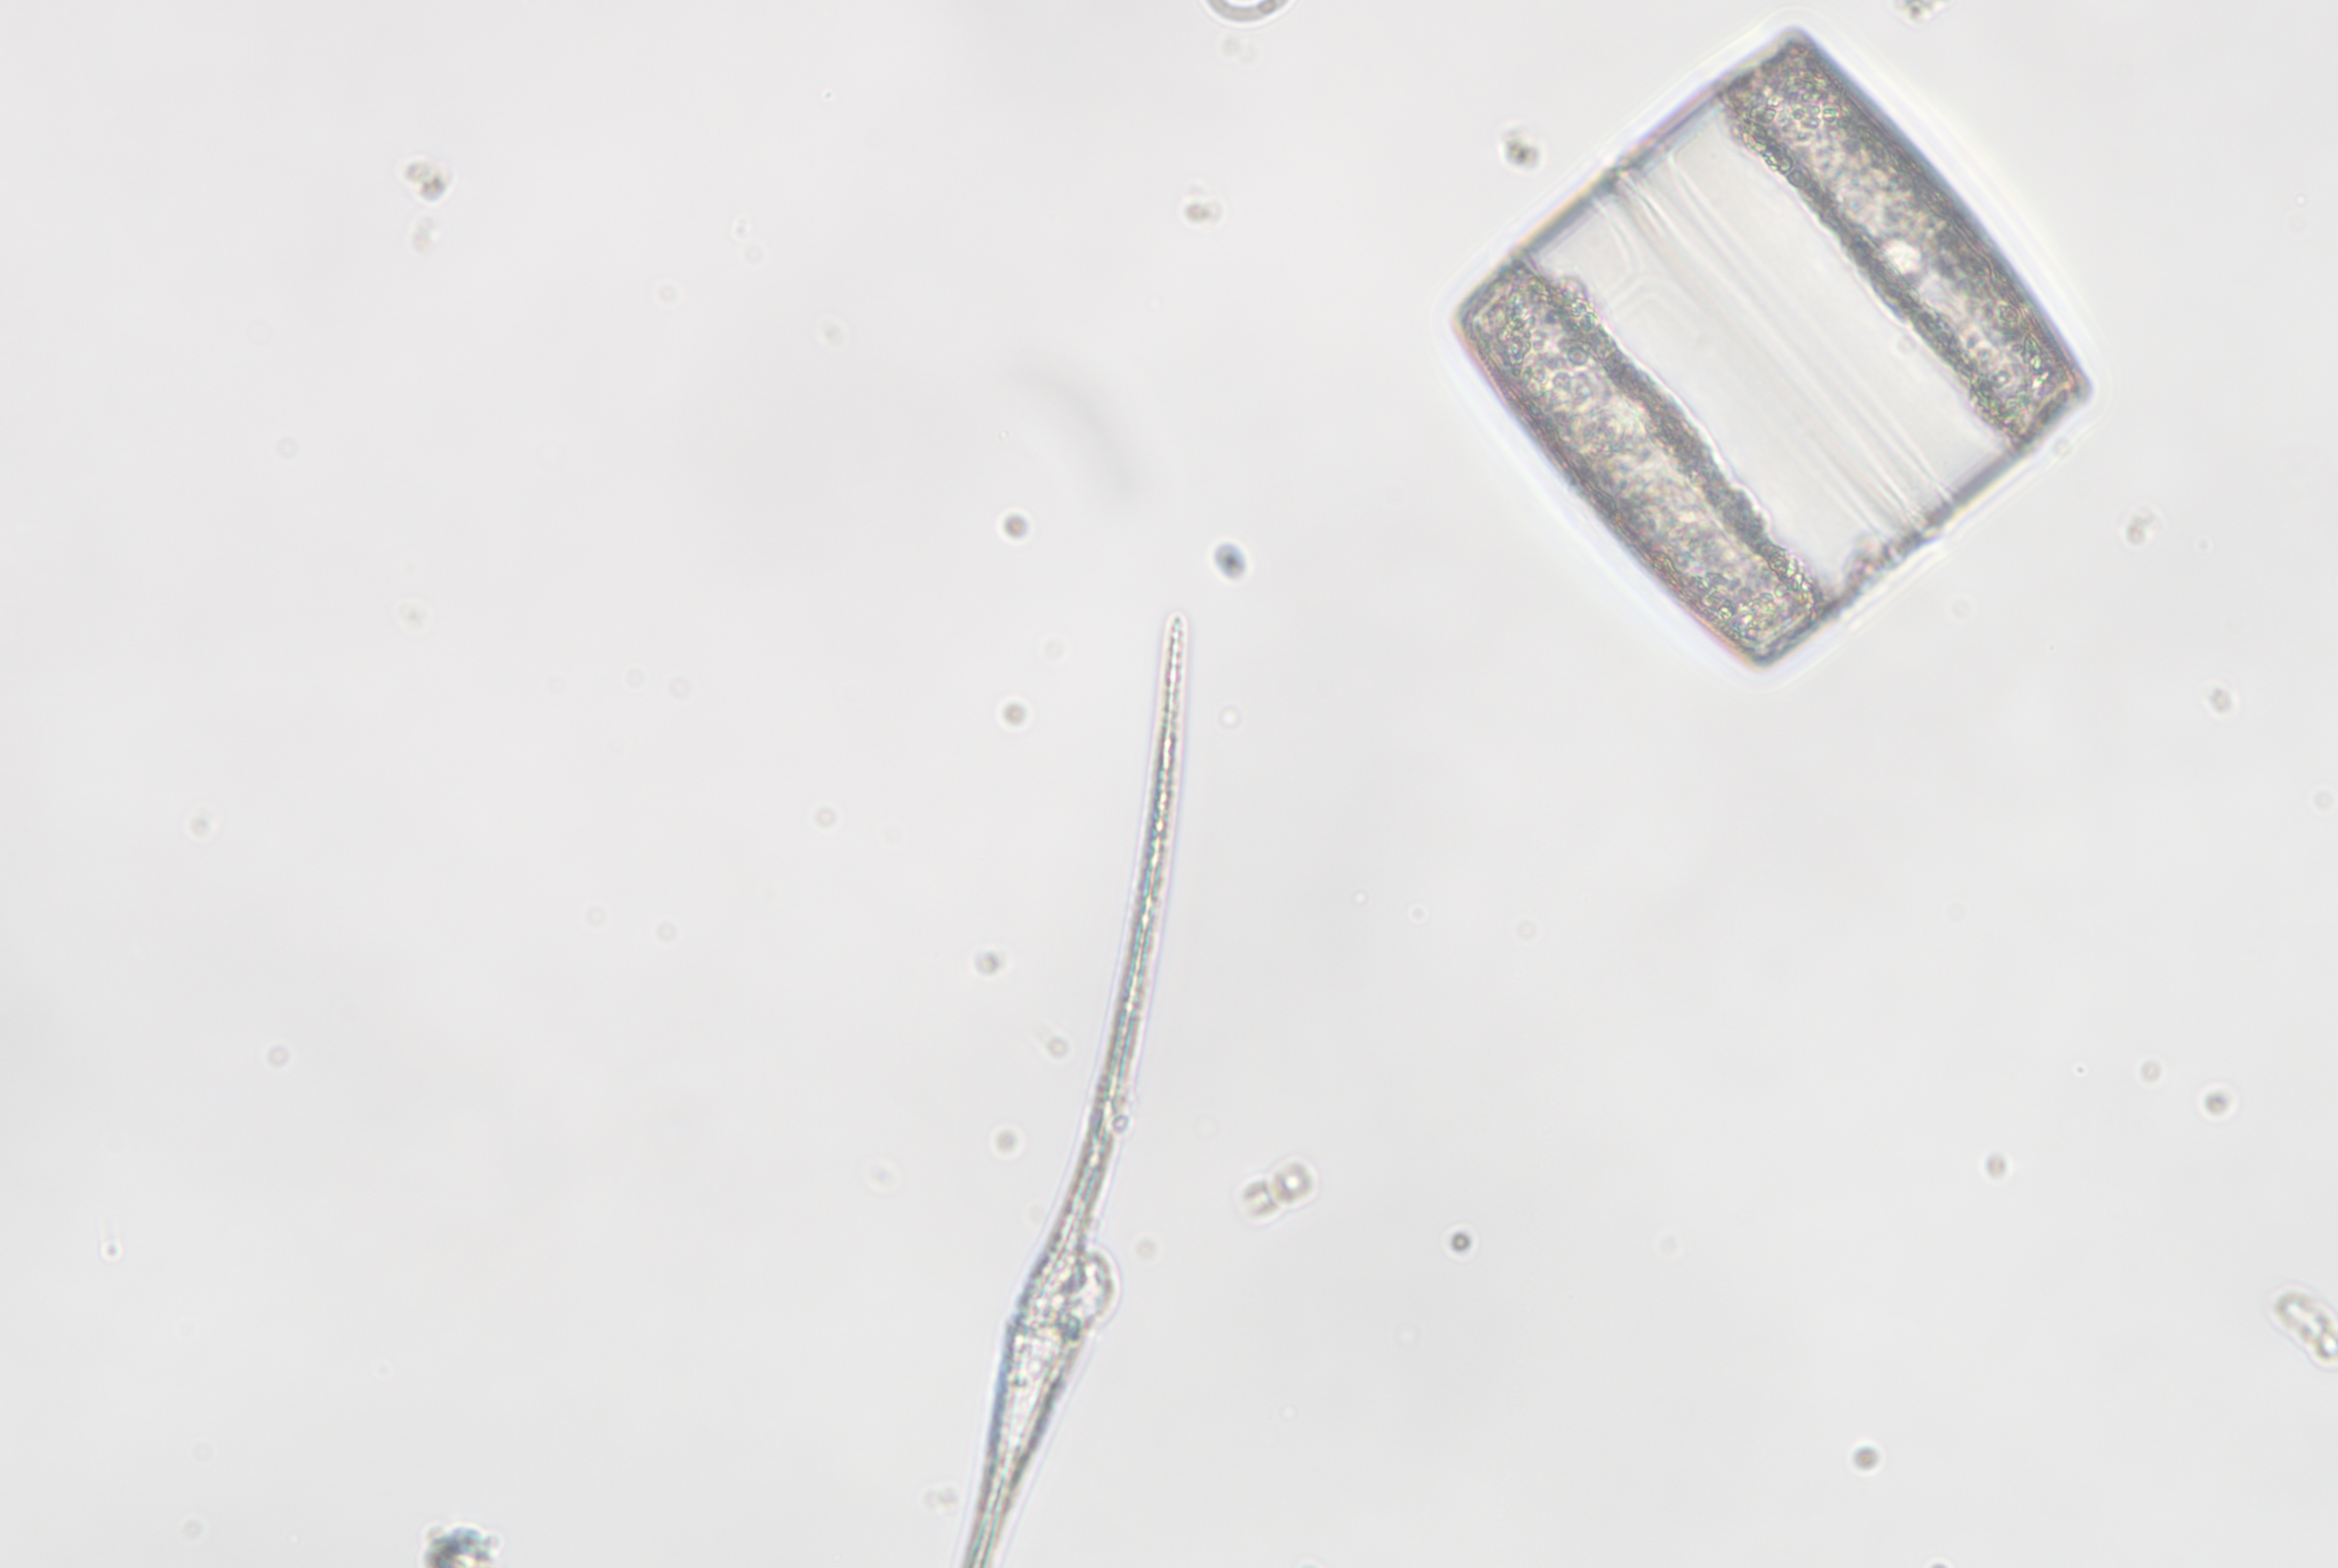ceratium fusus: (966, 607, 1183, 1568)
coscinodiscus: (1453, 17, 2095, 667)
